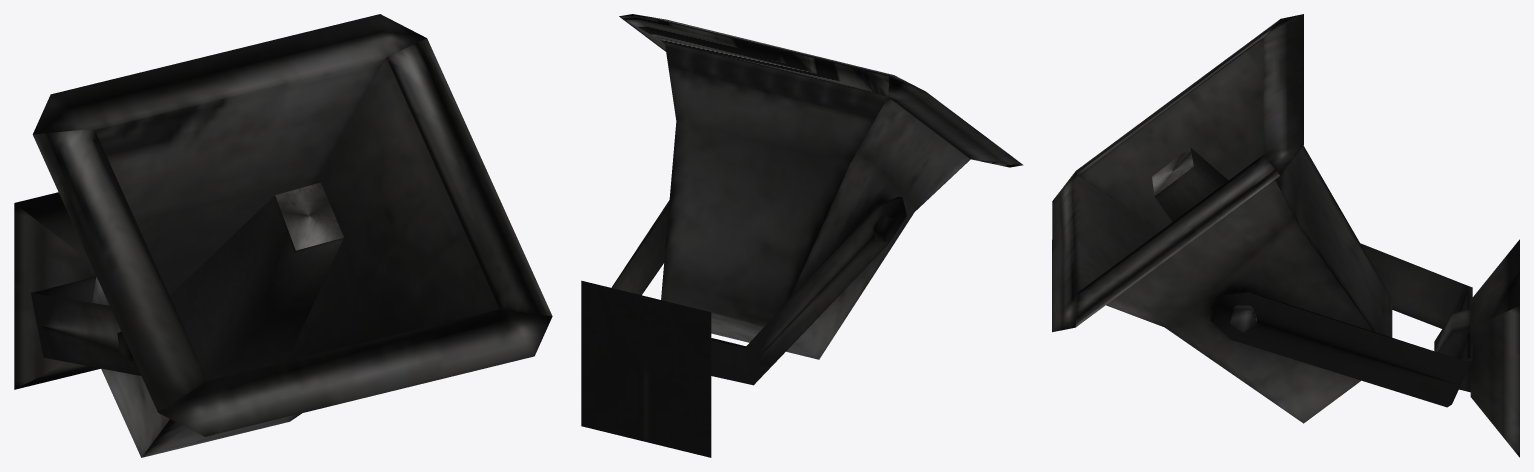
File: p_glo_loudspeaker_a_lod2.glb
The picture shows the model from 3 angles, left to right: view 1: azimuth 30°, elevation 25°; view 2: azimuth 150°, elevation 25°; view 3: azimuth 270°, elevation 25°; orthographic projection. The views are drawn at different scales.
Parts seen in each view (by area): view 1: surf0; view 2: surf0; view 3: surf0.
Boxes of the visible parts, box(x1,y1,x2,y2) form: surf0: box(14, 14, 552, 457); surf0: box(581, 14, 1023, 457); surf0: box(1052, 14, 1519, 457).
Size of the model in its own units: 18.36 by 18.49 by 23.12.
